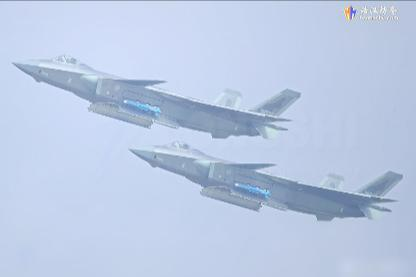F4: (11, 54, 301, 138), (127, 139, 402, 219)
